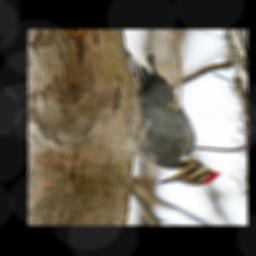Woodpecker: (124, 47, 222, 187)
